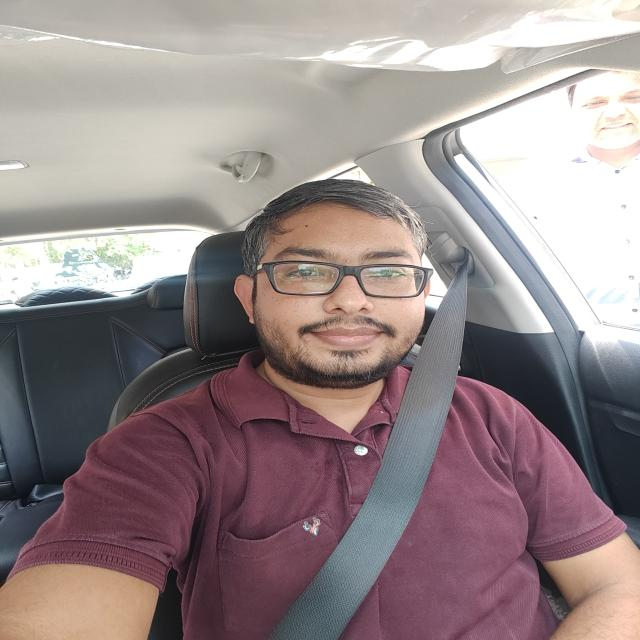seatbelt: (273, 240, 507, 640)
